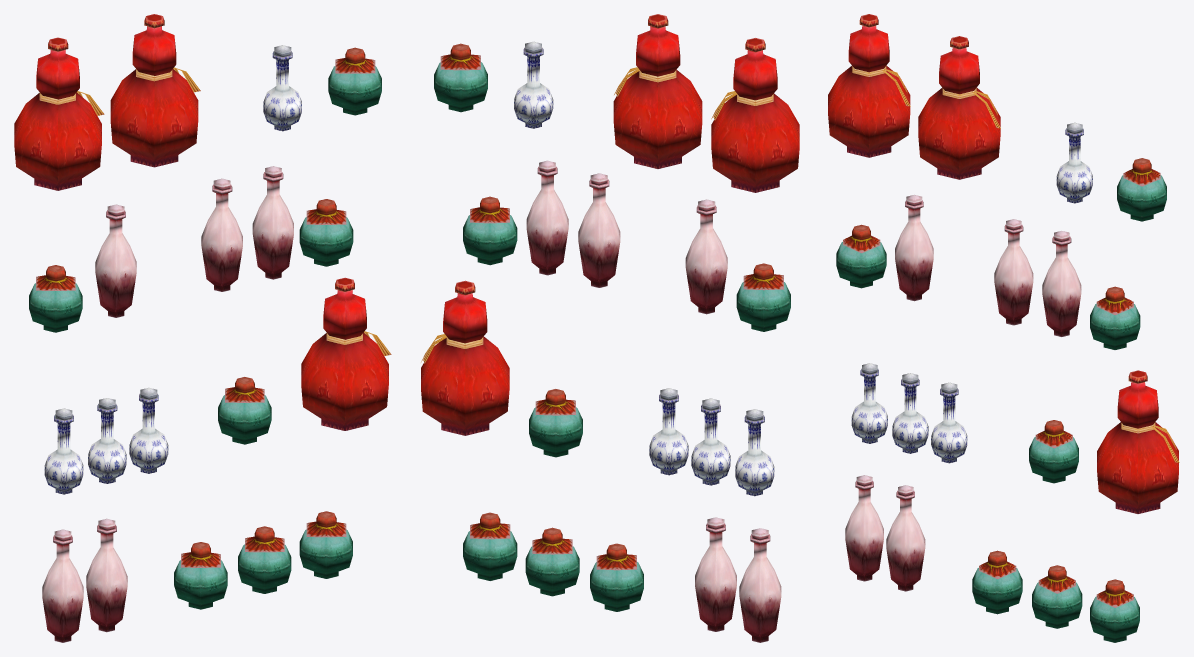
Rendered from 【道具】瓶瓶罐罐.glb.
3 views of the same model, side by side, from view 1: azimuth 30°, elevation 25°; view 2: azimuth 150°, elevation 25°; view 3: azimuth 330°, elevation 25° (orthographic). The views are drawn at different scales.
Visible parts, largest first — view 1: Mesh_0495.rip_noesis_meshnode_0000; view 2: Mesh_0495.rip_noesis_meshnode_0000; view 3: Mesh_0495.rip_noesis_meshnode_0000.
Boxes of the visible parts, x1,y1,x2,y2 form: Mesh_0495.rip_noesis_meshnode_0000: (14,14,391,642); Mesh_0495.rip_noesis_meshnode_0000: (421,14,799,642); Mesh_0495.rip_noesis_meshnode_0000: (828,14,1179,642).
Size of the model in its own units: 0.952 by 1.44 by 0.1928.
Materials: 1 (1 with a texture image).
